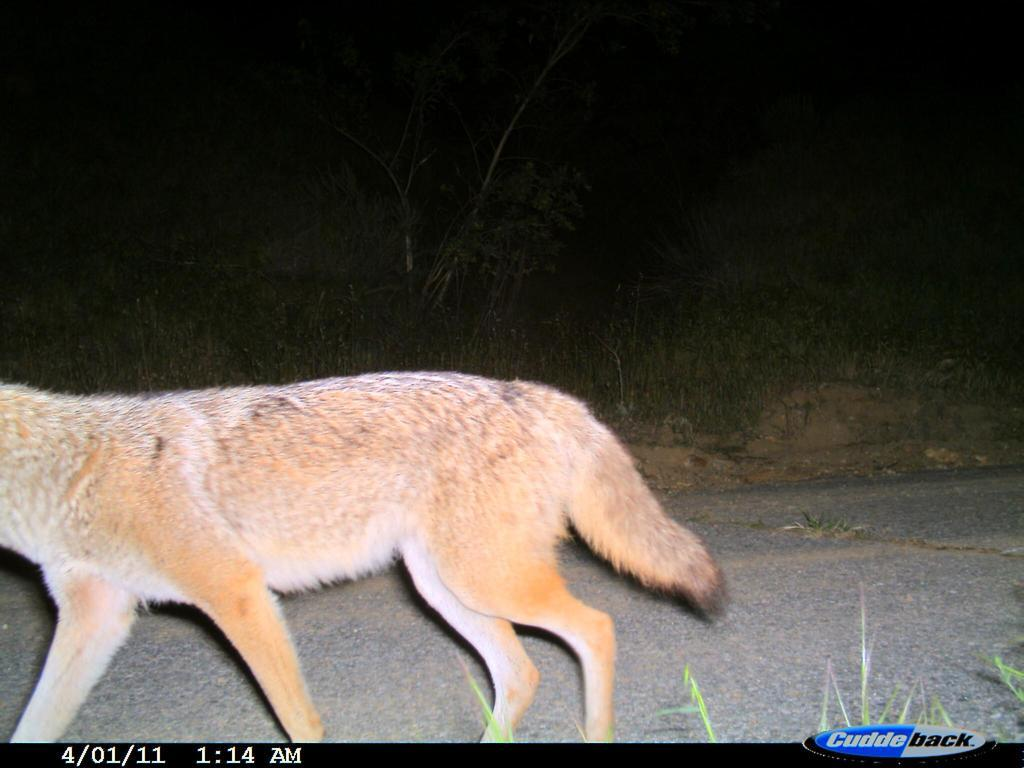coyote: (3, 363, 742, 745)
